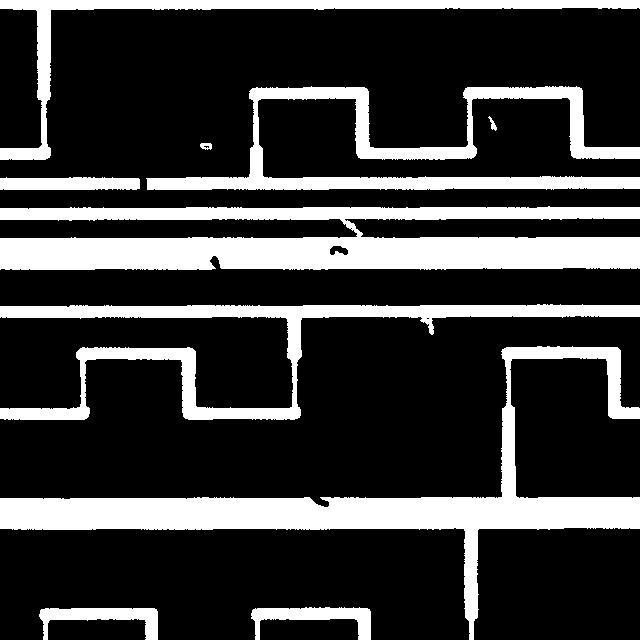copper: (320, 236, 357, 264)
mousebite: (410, 304, 443, 344)
open: (330, 208, 372, 246)
pin-hole: (478, 106, 506, 140), (190, 133, 221, 159)
short: (128, 163, 156, 207)
spur: (299, 479, 338, 516), (200, 246, 232, 281)
